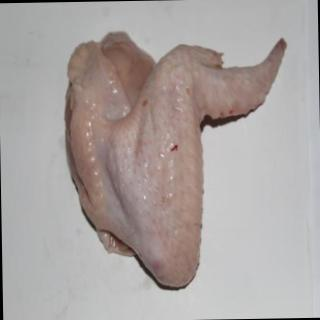Ayam: (62, 27, 292, 289)
